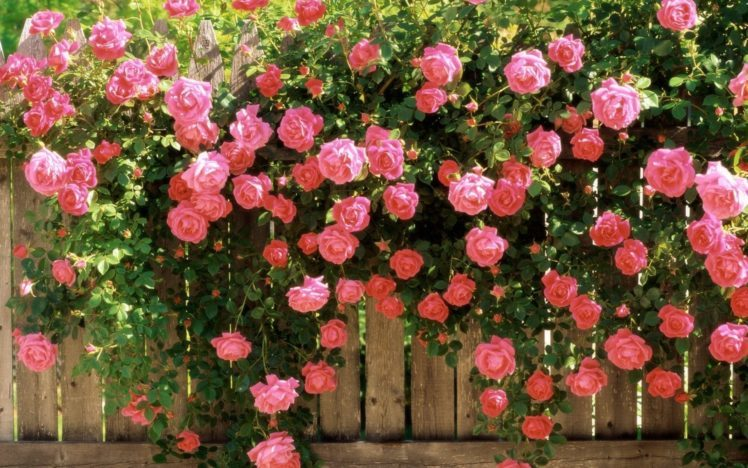Rose: (695, 166, 747, 220), (646, 149, 694, 195), (247, 431, 300, 468), (164, 79, 213, 118), (593, 85, 637, 126), (507, 50, 547, 95), (450, 174, 492, 215), (278, 108, 321, 148), (705, 247, 747, 287), (319, 142, 360, 182), (233, 105, 272, 147), (173, 115, 218, 151), (607, 331, 648, 370), (254, 378, 295, 414), (19, 332, 56, 371), (168, 207, 208, 243), (186, 155, 228, 189), (466, 228, 504, 265), (26, 155, 64, 192), (475, 340, 514, 376), (711, 324, 748, 361), (568, 360, 607, 395), (368, 141, 403, 178), (422, 46, 459, 81), (285, 281, 328, 311), (383, 184, 418, 218), (544, 270, 576, 307), (527, 130, 561, 164), (318, 227, 355, 258), (490, 181, 524, 214), (615, 241, 648, 275), (688, 220, 723, 252), (93, 20, 124, 56), (590, 214, 627, 244), (193, 191, 228, 222), (660, 303, 691, 338), (294, 157, 327, 189), (550, 38, 584, 69), (659, 1, 695, 30), (145, 46, 178, 77), (232, 175, 264, 206), (448, 272, 475, 308), (65, 158, 95, 190), (57, 186, 90, 215), (338, 196, 367, 228), (303, 362, 335, 390), (390, 249, 422, 277), (418, 293, 447, 323), (349, 40, 379, 69), (572, 296, 600, 327), (213, 333, 246, 359), (646, 371, 679, 397), (572, 131, 603, 157), (264, 196, 296, 221), (107, 75, 134, 102), (29, 10, 59, 34), (258, 66, 280, 98), (295, 1, 327, 23), (162, 0, 201, 18), (415, 88, 446, 110), (336, 279, 363, 304), (366, 275, 395, 298), (321, 320, 346, 346), (24, 107, 50, 132), (482, 390, 507, 416), (529, 372, 552, 398), (24, 77, 51, 99), (376, 299, 404, 320), (93, 141, 117, 164), (266, 242, 288, 267), (526, 416, 549, 439), (119, 60, 144, 81), (53, 259, 74, 284), (50, 95, 76, 115)
